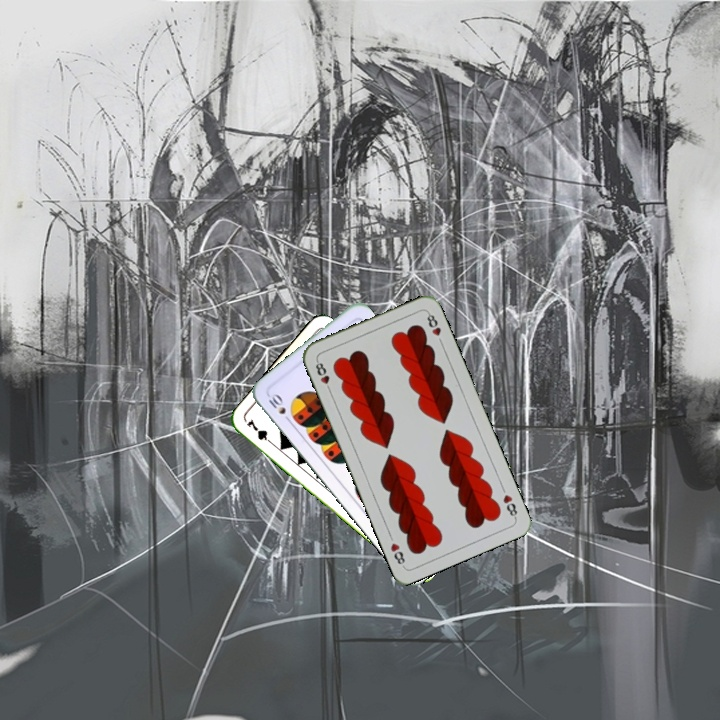G7: (243, 415, 277, 448)
H8: (311, 356, 334, 395), (499, 490, 520, 521)
S10: (264, 389, 294, 426)
